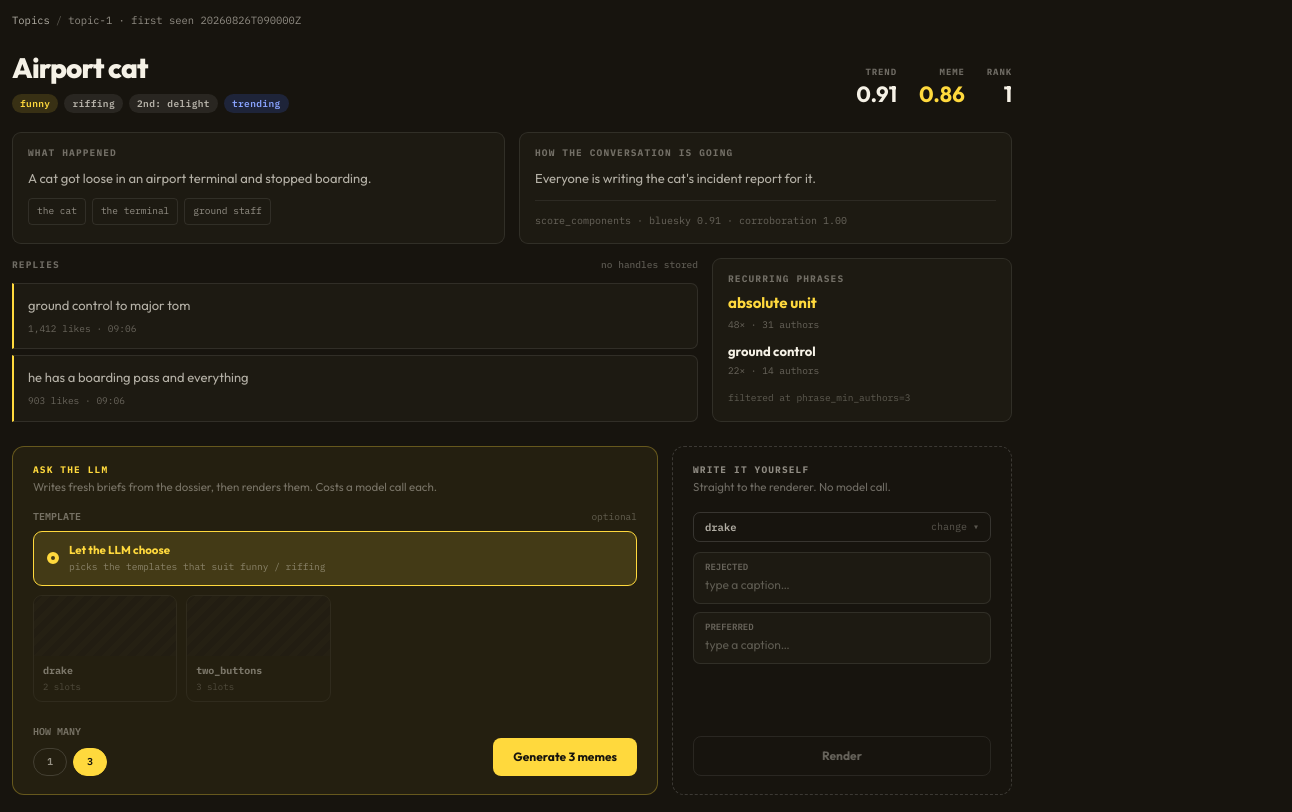
Test: Ask the LLM › generates three by default, and the button says how many
Expected: the button "Generate 3 memes" is shown, [493, 738, 637, 776]
Click the button "1": [50, 762] box [33, 748, 67, 776]
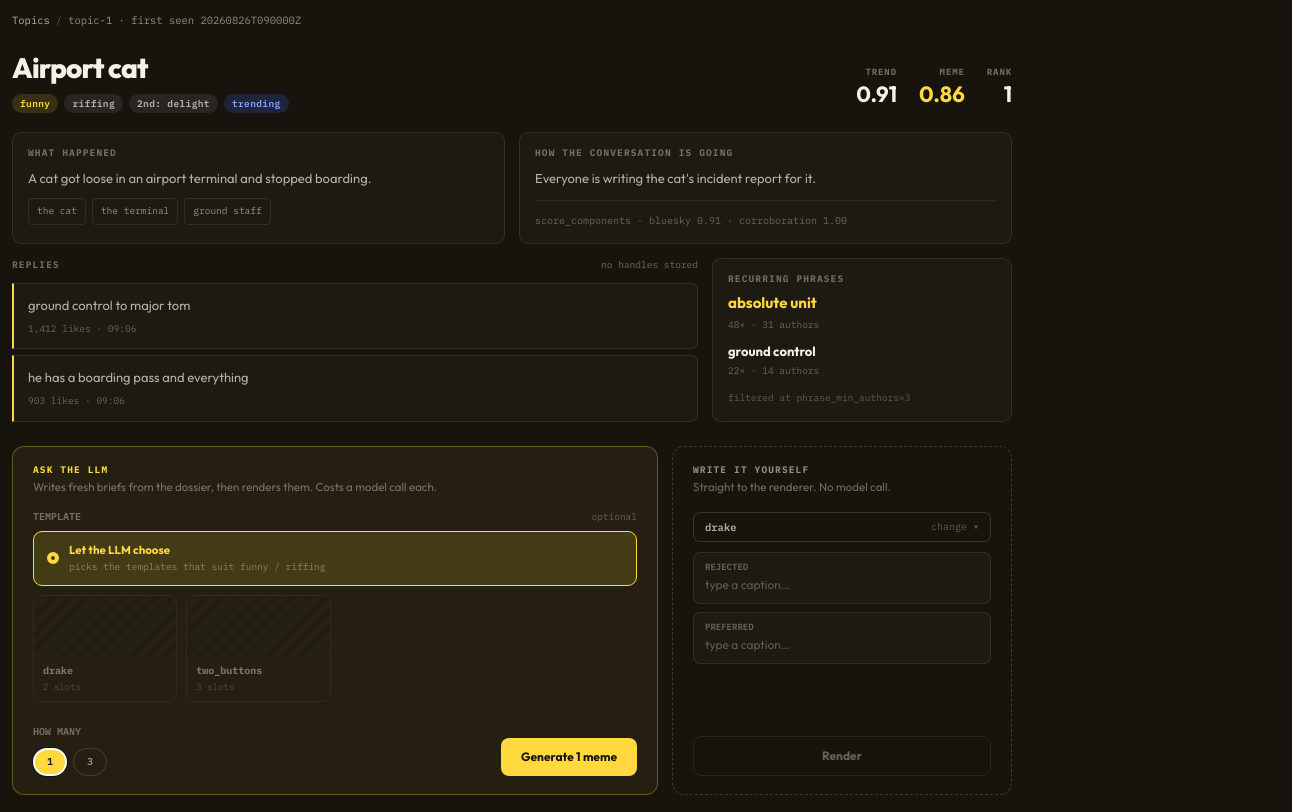
Now the button "Generate 1 meme" is shown, box [501, 738, 637, 776]
